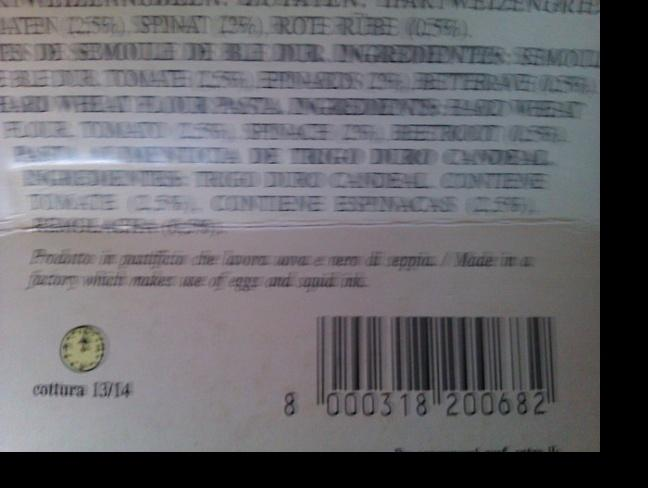Barcode: (274, 304, 580, 430)
